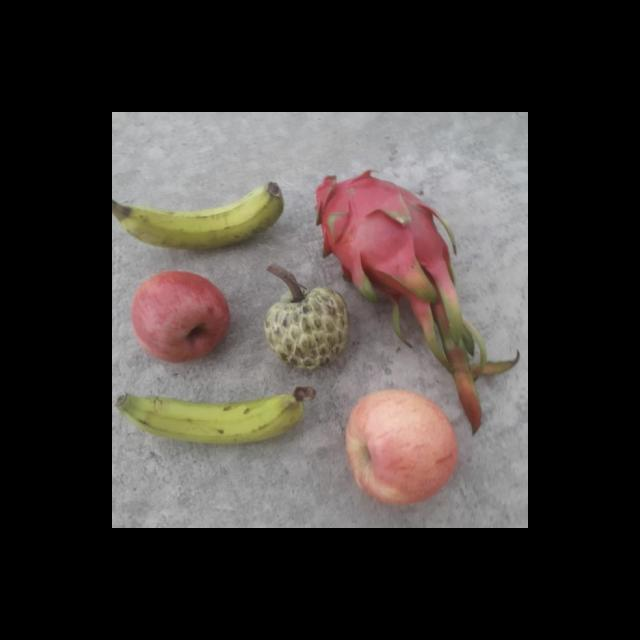Sakya fruit: (262, 285, 353, 373)
apple: (339, 388, 461, 510), (121, 268, 235, 372)
banana: (112, 176, 288, 252), (112, 382, 316, 445)
pitaya: (309, 168, 459, 314)
